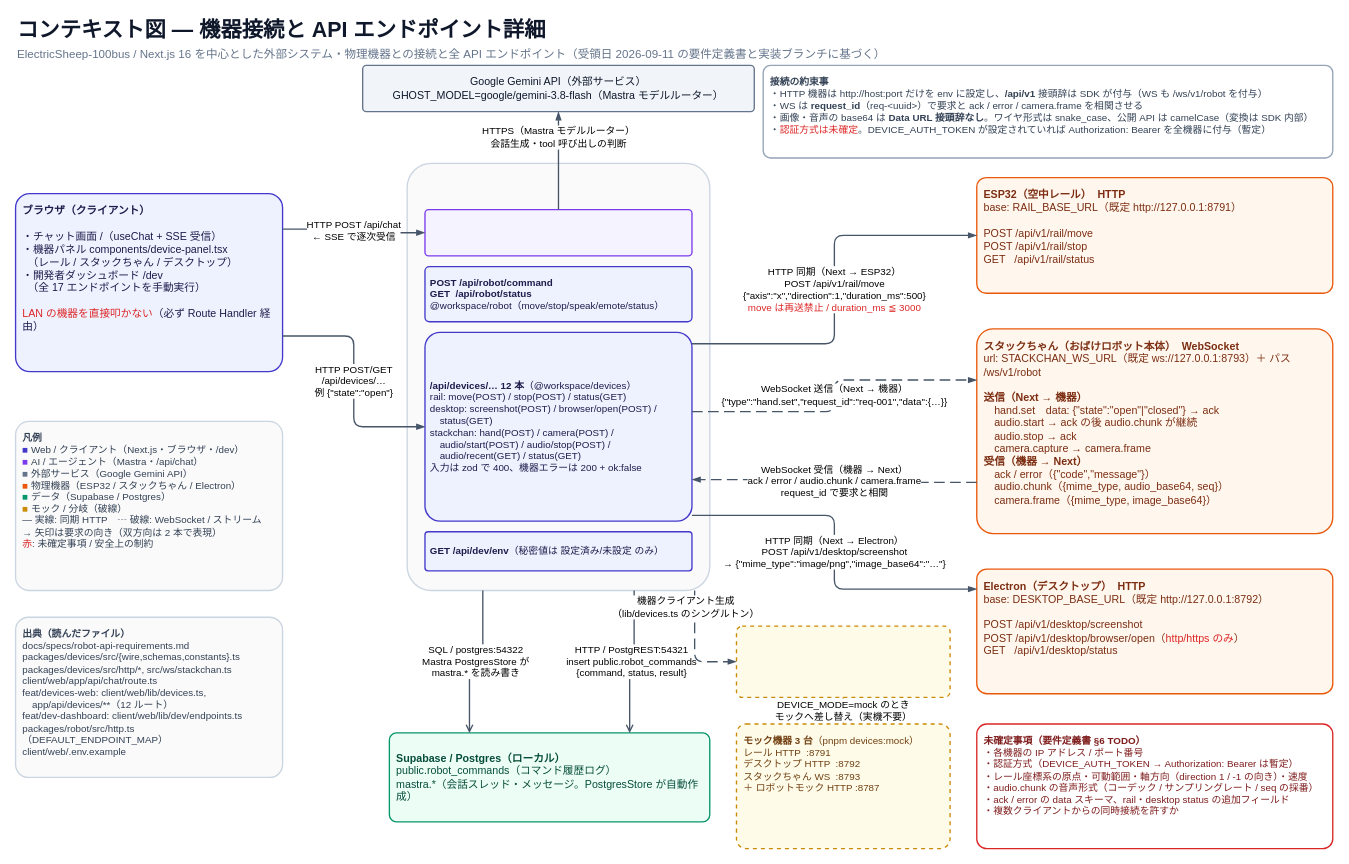
Image size: 1349x864. Some labels were removed from this diagram. The shapes that lost their labels are listed below. From the top down, each one's box as (x1, y1, x2, y2) in pixels, then its label:
(424, 209, 692, 256): POST /api/chat handleChatStream({ version: "v7" }) → SSE
(406, 162, 710, 591): Next.js 16（制御元 / サーバー） Route Handler ＋ Mastra ghost agent（同一プロセス）
(735, 625, 950, 698): 分岐点 DEVICE_MODE = mock | real createDevices(process.env) real でも URL 未設定の機器はモック
